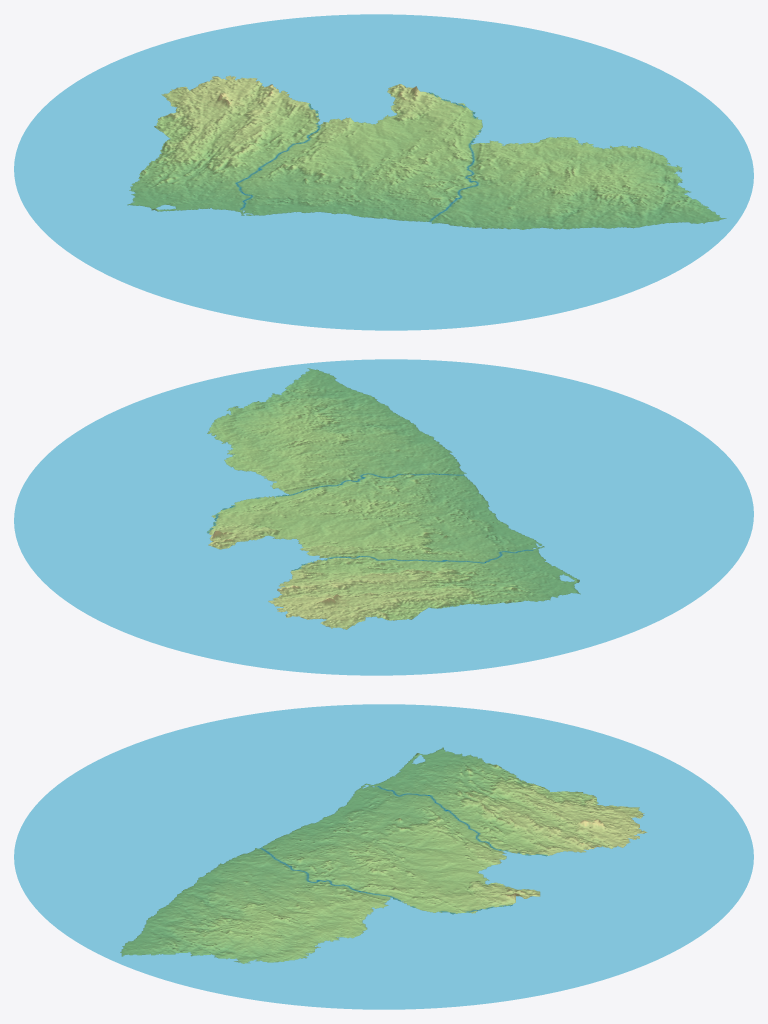
File: LBR-terrain.glb
The picture shows the model from 3 angles, top to bottom: view 1: azimuth 30°, elevation 25°; view 2: azimuth 150°, elevation 25°; view 3: azimuth 270°, elevation 25°; orthographic projection.
Visible parts, largest first — view 1: Relevo com hidrografia; view 2: Relevo com hidrografia; view 3: Relevo com hidrografia.
Part boxes in pixels (box(x1,y1,x2,y2)): Relevo com hidrografia: box(14, 14, 753, 330); Relevo com hidrografia: box(14, 359, 753, 675); Relevo com hidrografia: box(14, 704, 753, 1009).
Size of the model in its own units: 2.21 by 0.041 by 2.26.
Materials: 2 (1 with a texture image).
